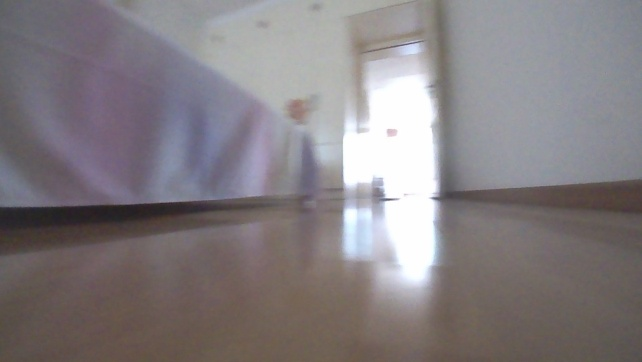bed1: (0, 0, 319, 219)
